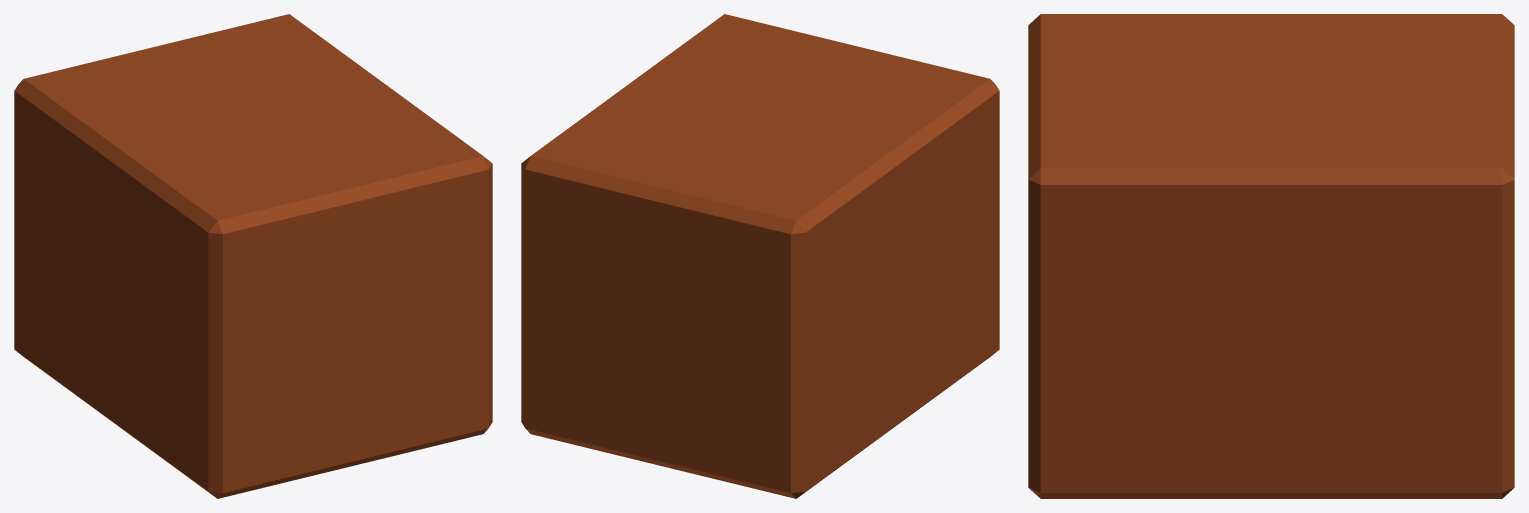
The model's file is Wall Standalone Piece.fbx.
3 renders of one model, left to right at view 1: azimuth 30°, elevation 25°; view 2: azimuth 150°, elevation 25°; view 3: azimuth 270°, elevation 25°, orthographic. The views are drawn at different scales.
Visible parts, largest first — view 1: Wall Asset Standalone Piece; view 2: Wall Asset Standalone Piece; view 3: Wall Asset Standalone Piece.
Part boxes in pixels (box(x1,y1,x2,y2)): Wall Asset Standalone Piece: box(14, 14, 492, 498); Wall Asset Standalone Piece: box(521, 14, 999, 498); Wall Asset Standalone Piece: box(1028, 14, 1514, 498).
Bounding box in the file's own units: 80.17 × 75 × 100.
